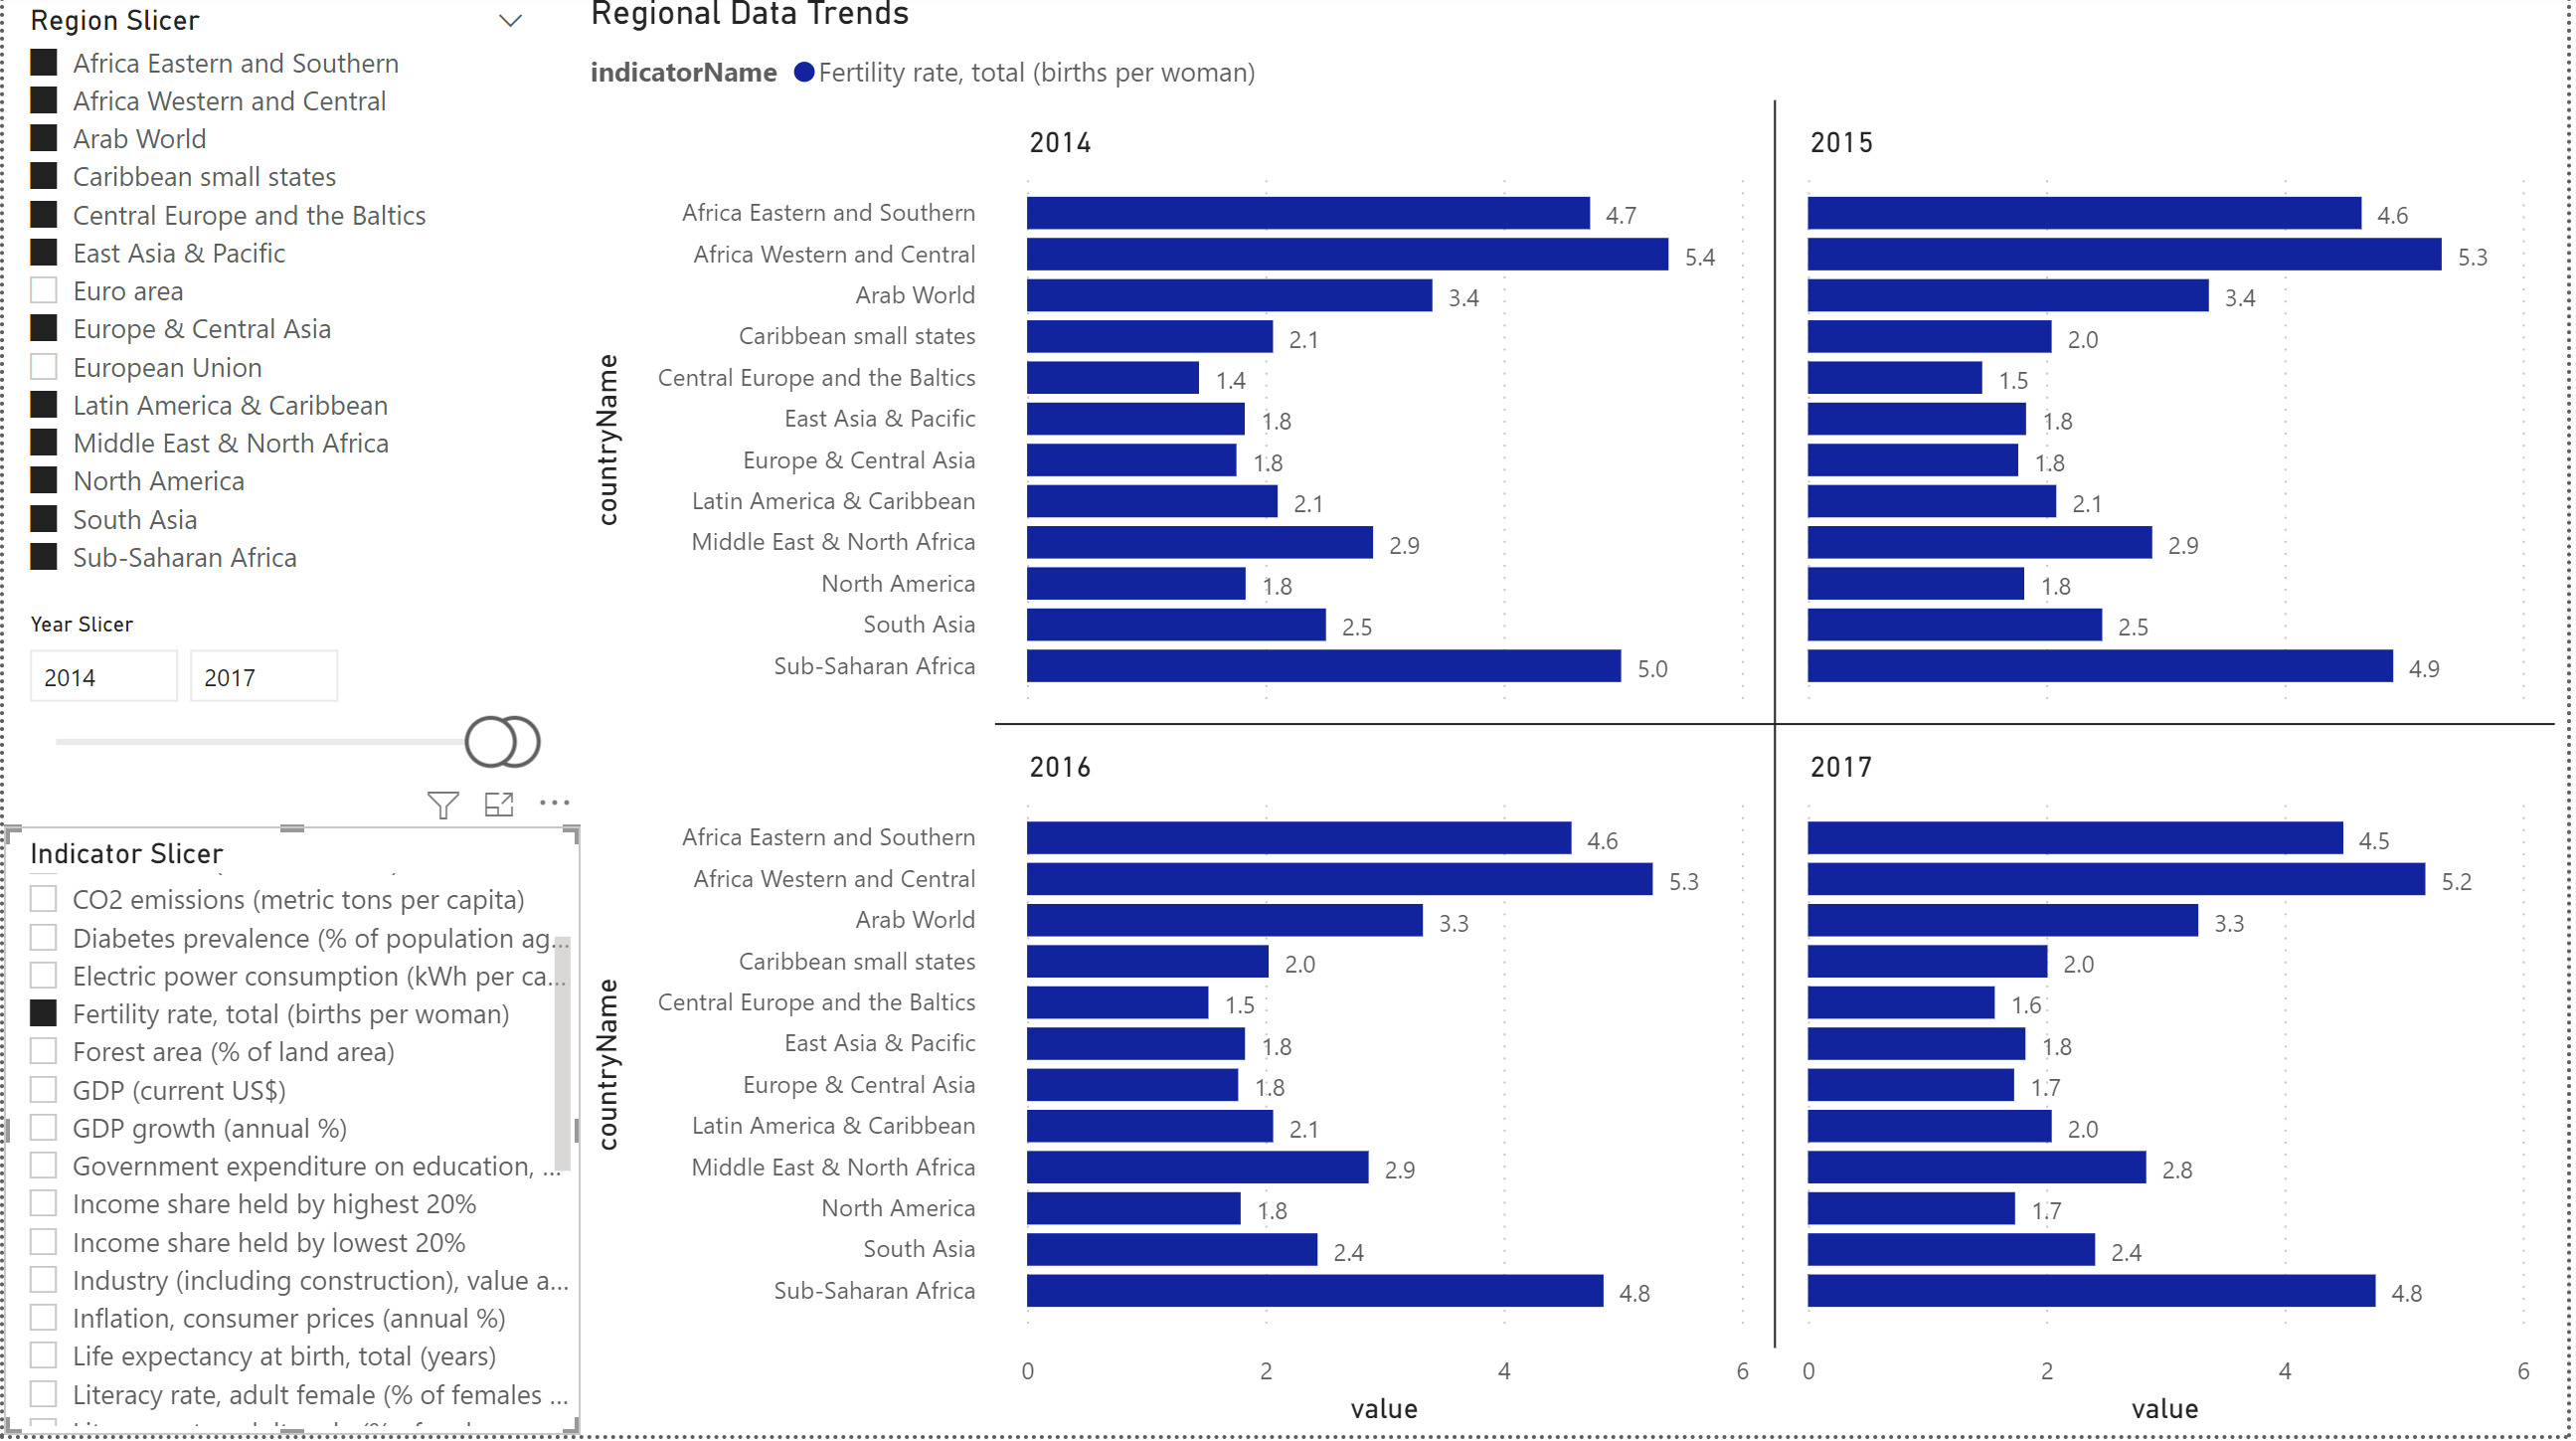

The dashboard page shown, as its layout file describes it:
{"tool":"powerbi","page":{"name":"RegionTable","canvas":[1280,720],"ordinal":3},"visuals":[{"type":"slicer","fields":{"Values":["dimensiontablecountrycode.countryName"]},"box":[0,0,272,304],"z":0},{"type":"slicer","fields":{"Values":["dimensiontabledate.dateYear"]},"box":[0,304,288,112],"z":1000},{"type":"slicer","fields":{"Values":["dimensiontableindicatorcode.indicatorName"]},"box":[0,416,288,304],"z":2000},{"type":"clusteredBarChart","title":"Regional Data Trends","fields":{"Y":["Sum(dataregiontable.value)"],"Category":["dataregiontable.countryName"],"Series":["dataregiontable.indicatorName"],"Rows":["dataregiontable.year"]},"box":[288,0,992,720],"z":3000}]}

Visuals, with their boxes on the page's 1280x720 design canvas (x1, y1, x2, y2). These are canvas units, not pixel positions in the 2576x1441 screenshot, which may show the page scaled, cropped or inside an application window:
slicer - dimensiontablecountrycode.countryName: <box>0,0,272,304</box>
slicer - dimensiontabledate.dateYear: <box>0,304,288,416</box>
slicer - dimensiontableindicatorcode.indicatorName: <box>0,416,288,720</box>
"Regional Data Trends" clusteredBarChart: <box>288,0,1280,720</box>
